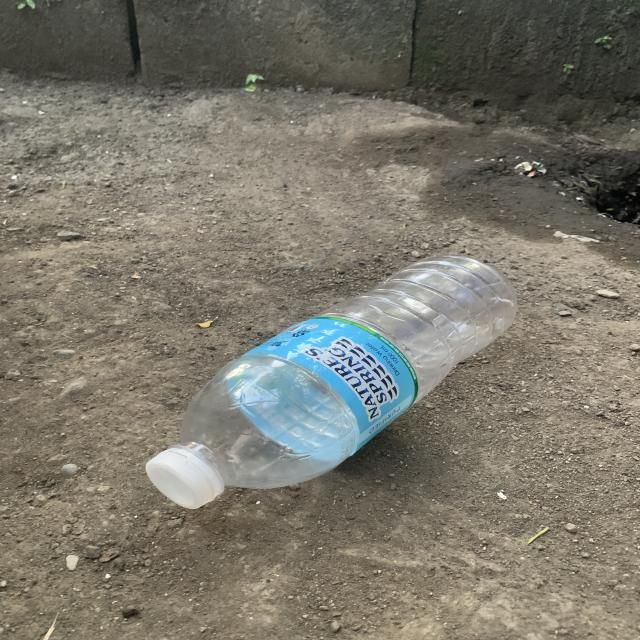Bottle: (146, 255, 517, 509)
